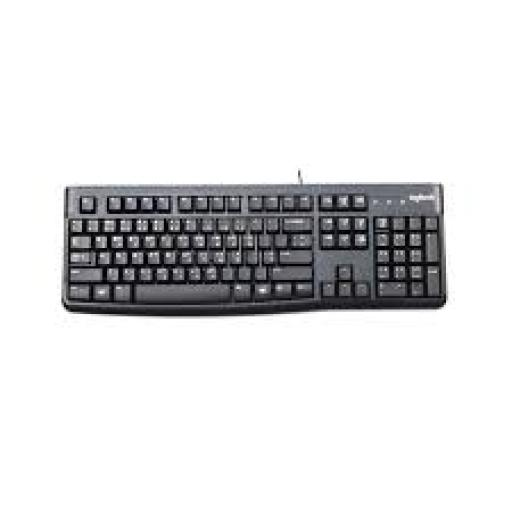keyboard: (61, 184, 444, 314)
